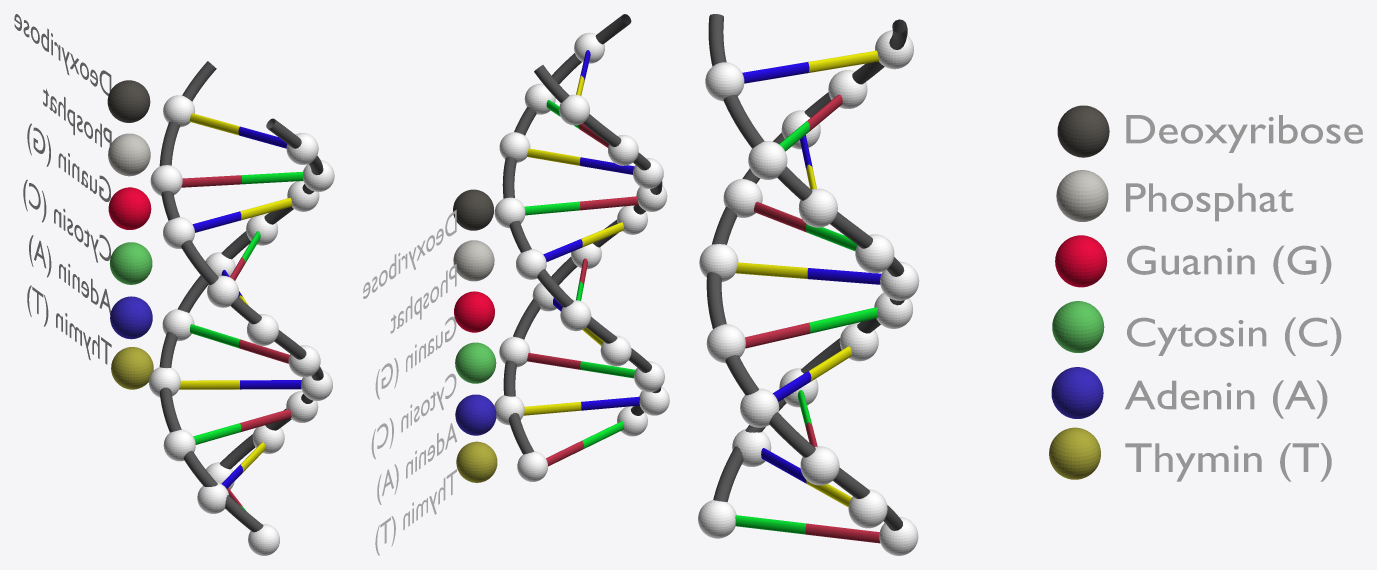
The picture shows the model from 3 angles, left to right: view 1: azimuth 30°, elevation 25°; view 2: azimuth 150°, elevation 25°; view 3: azimuth 270°, elevation 25°; orthographic projection. The views are drawn at different scales.
Visible parts, largest first — view 1: Sphere.005, Sphere.001, Helix, Sphere.007, Sphere, Sphere.002, Sphere.003, Sphere.004, Sphere.006, Text, Text.003, Text.002 (+3 smaller); view 2: Sphere.001, Sphere.005, Helix, Sphere.004, Sphere.003, Sphere.006, Sphere, Sphere.002, Sphere.007, Text, Text.003, Text.002 (+3 smaller); view 3: Sphere.001, Sphere.005, Helix, Text, Sphere.007, Sphere, Sphere.002, Sphere.004, Sphere.006, Sphere.003, Text.002, Text.003 (+3 smaller).
Boxes of the visible parts, <box> form: Sphere.005: <box>148,95,332,513</box>; Sphere.001: <box>150,160,334,555</box>; Helix: <box>159,61,323,532</box>; Sphere.007: <box>107,80,150,122</box>; Sphere: <box>108,133,150,176</box>; Sphere.002: <box>108,187,151,229</box>; Sphere.003: <box>109,242,152,284</box>; Sphere.004: <box>110,296,152,339</box>; Sphere.006: <box>111,347,153,389</box>; Text: <box>14,14,111,95</box>; Text.003: <box>23,179,110,262</box>; Text.002: <box>27,123,110,201</box>; Sphere.001: <box>494,83,667,481</box>; Sphere.005: <box>494,32,669,425</box>; Helix: <box>502,14,662,454</box>; Sphere.004: <box>455,394,496,435</box>; Sphere.003: <box>455,342,496,383</box>; Sphere.006: <box>456,441,497,482</box>; Sphere: <box>453,240,494,281</box>; Sphere.002: <box>454,291,494,332</box>; Sphere.007: <box>453,189,493,230</box>; Text: <box>363,209,456,298</box>; Text.003: <box>371,373,456,459</box>; Text.002: <box>375,316,456,399</box>; Sphere.001: <box>698,70,918,555</box>; Sphere.005: <box>699,30,919,528</box>; Helix: <box>706,14,907,530</box>; Text: <box>1126,115,1362,152</box>; Sphere.007: <box>1057,105,1109,157</box>; Sphere: <box>1056,170,1108,221</box>; Sphere.002: <box>1055,235,1107,287</box>; Sphere.004: <box>1051,367,1103,418</box>; Sphere.006: <box>1049,427,1100,479</box>; Sphere.003: <box>1052,301,1104,352</box>; Text.002: <box>1127,245,1331,283</box>; Text.003: <box>1127,317,1341,355</box>.
Bounding box in the file's own units: 1.21 × 3.13 × 3.57.
